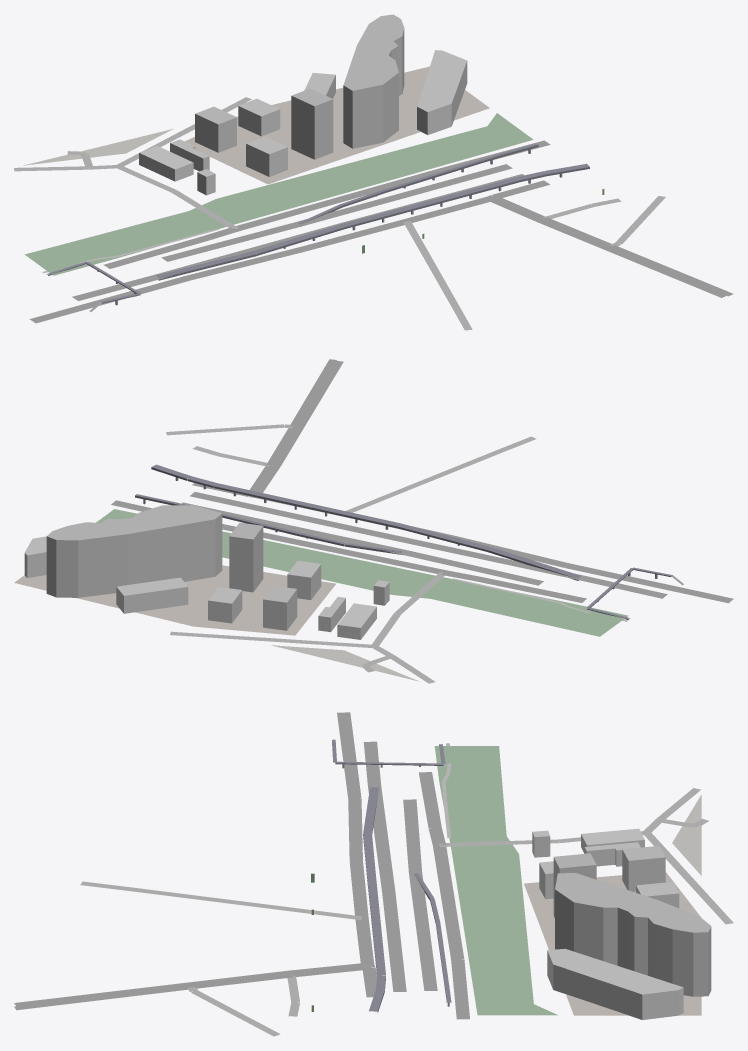
The picture shows the model from 3 angles, top to bottom: view 1: azimuth 30°, elevation 25°; view 2: azimuth 150°, elevation 25°; view 3: azimuth 270°, elevation 25°; orthographic projection. The views are drawn at different scales.
Bounding box in the file's own units: 603 × 57.11 × 565.
